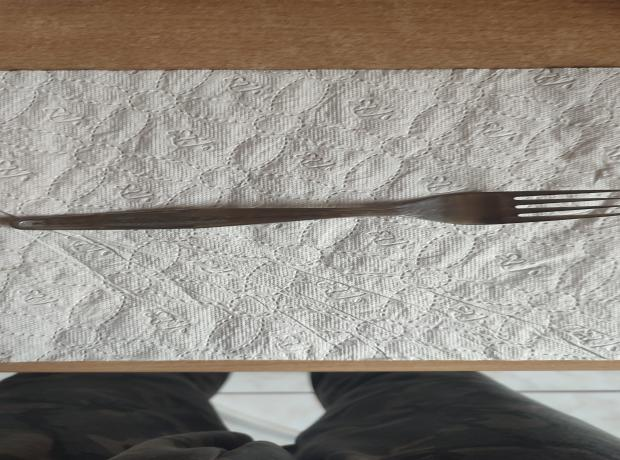metal: (8, 188, 620, 230)
